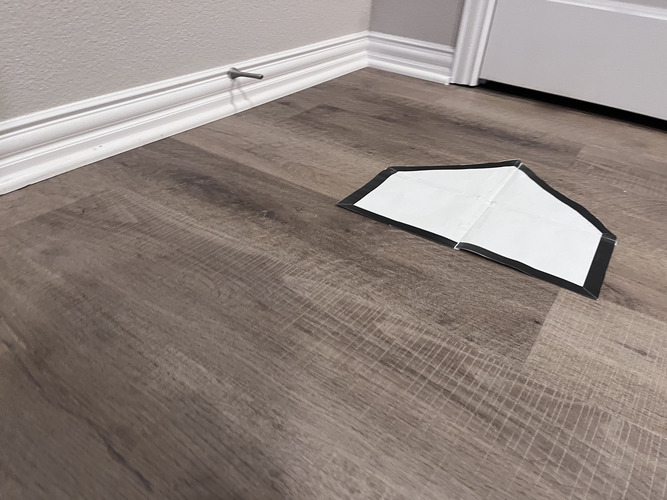homeplate: (335, 160, 616, 300)
